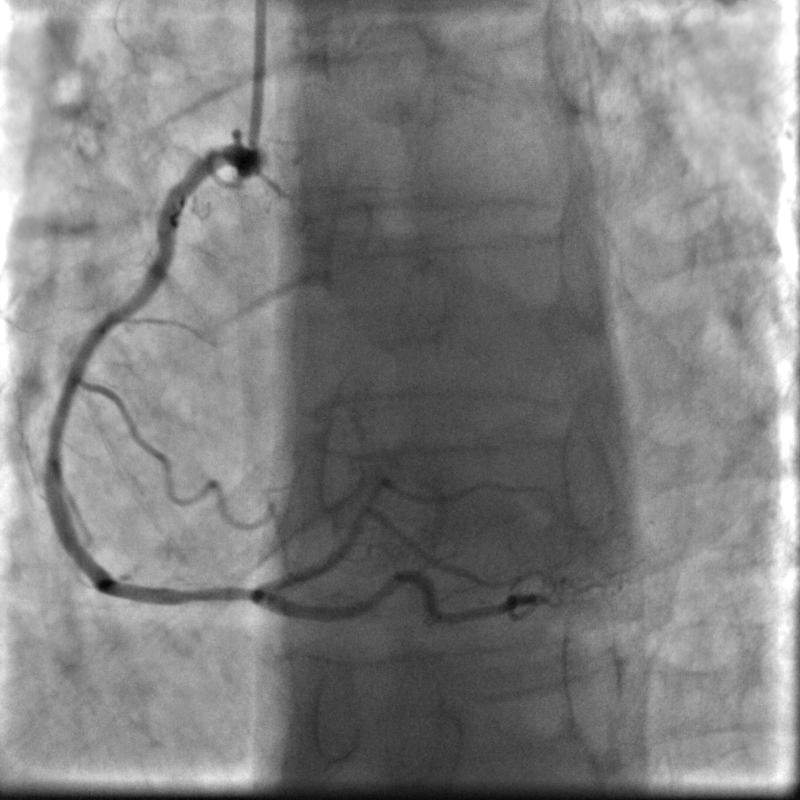Stenosis: (157, 571, 252, 619)
